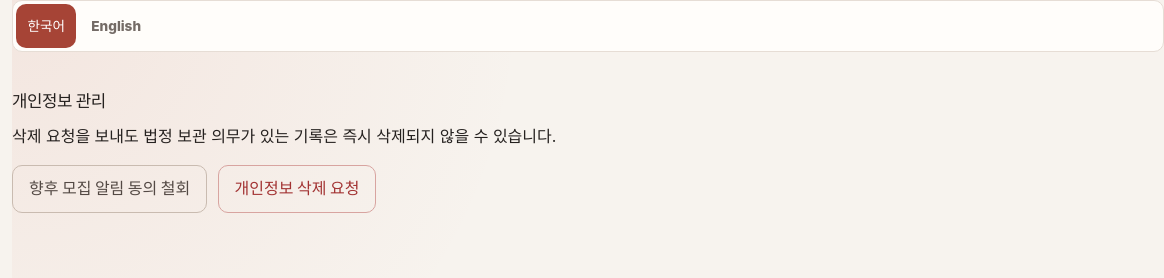
Test: translates an existing privacy status when the language changes
Step 1. Click the button "개인정보 삭제 요청" → [297, 189], box 218,165 -> 376,213
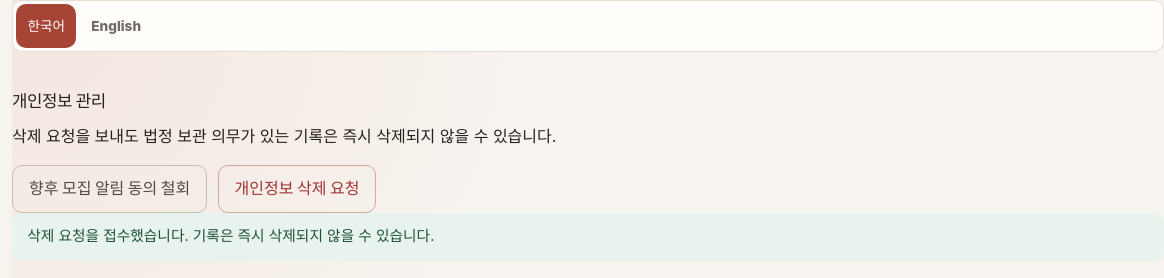
Now the message shows "삭제 요청을 접수했습니다.", box 27,227 -> 434,245
Step 2. Click the button "English" → [116, 26], box 80,4 -> 152,48
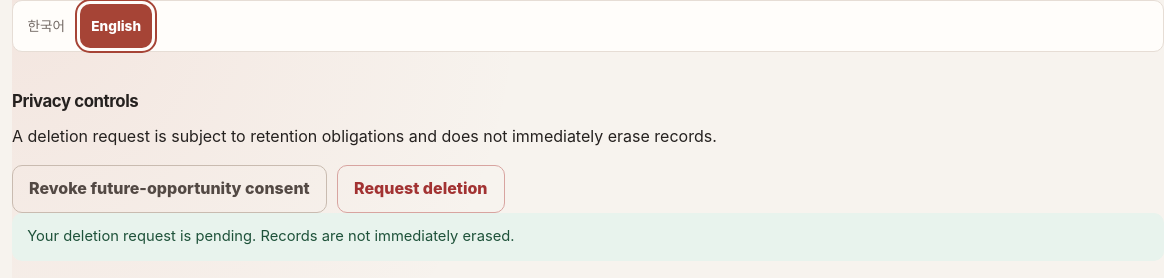
Now the message shows "Your deletion request is pending.", box 27,227 -> 514,245
